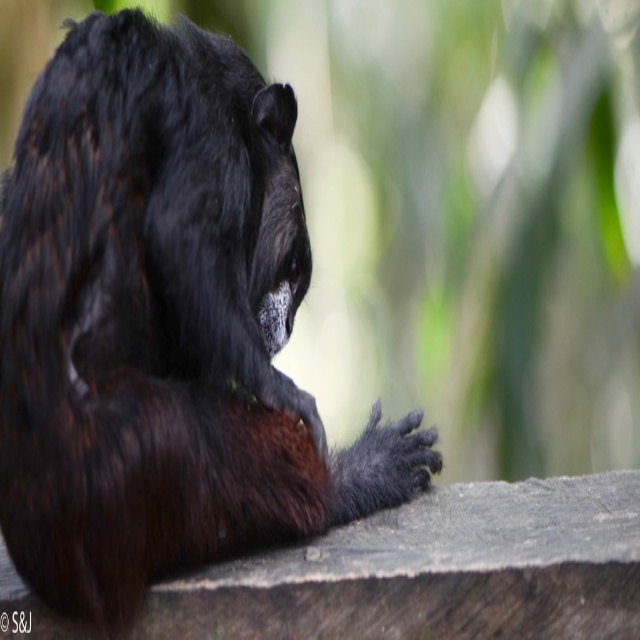Monkey: (0, 5, 442, 602)
